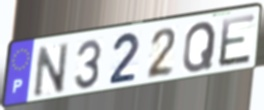2: (108, 31, 141, 88), (146, 27, 177, 81)
3: (73, 37, 104, 91)
E: (217, 12, 258, 70)
N: (33, 41, 71, 100)
Q: (180, 20, 218, 75)
